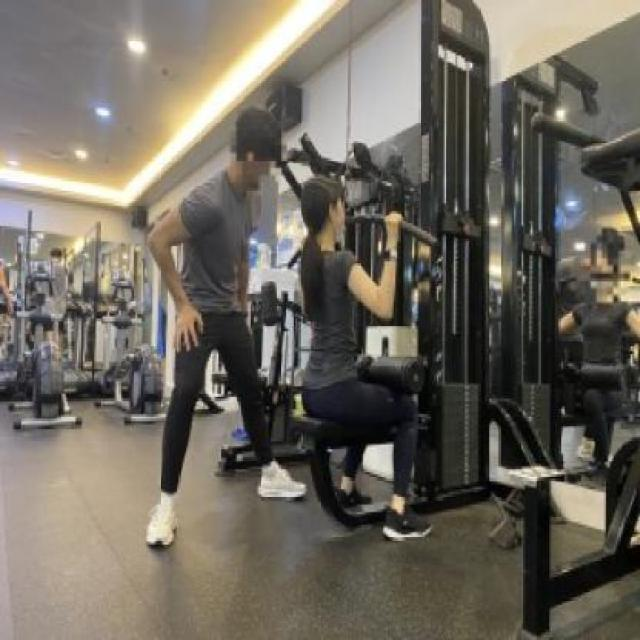Lat Pull Down: (222, 0, 600, 600)
